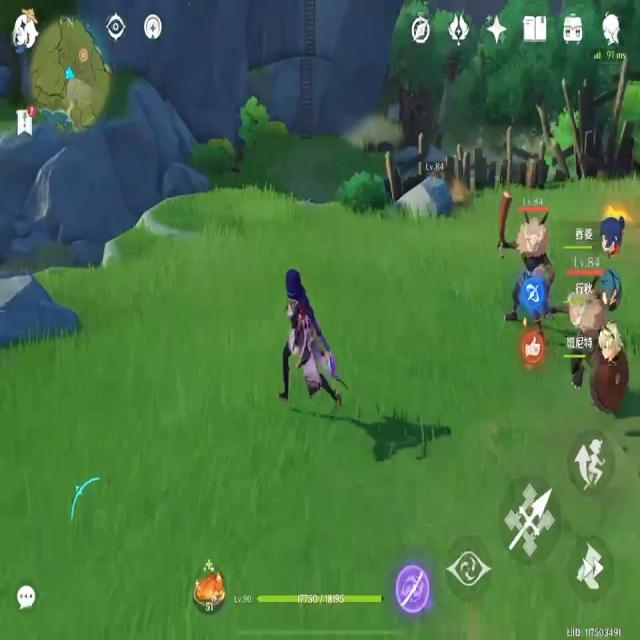genshin-hilichurls: (500, 179, 554, 277)
